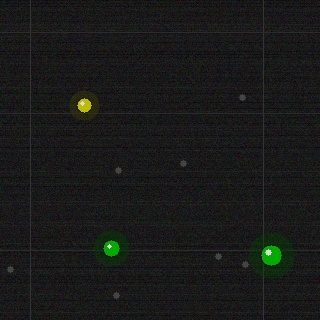green_normal: (259, 243, 283, 267), (101, 238, 121, 258)
yellow_warning: (75, 96, 93, 114)
